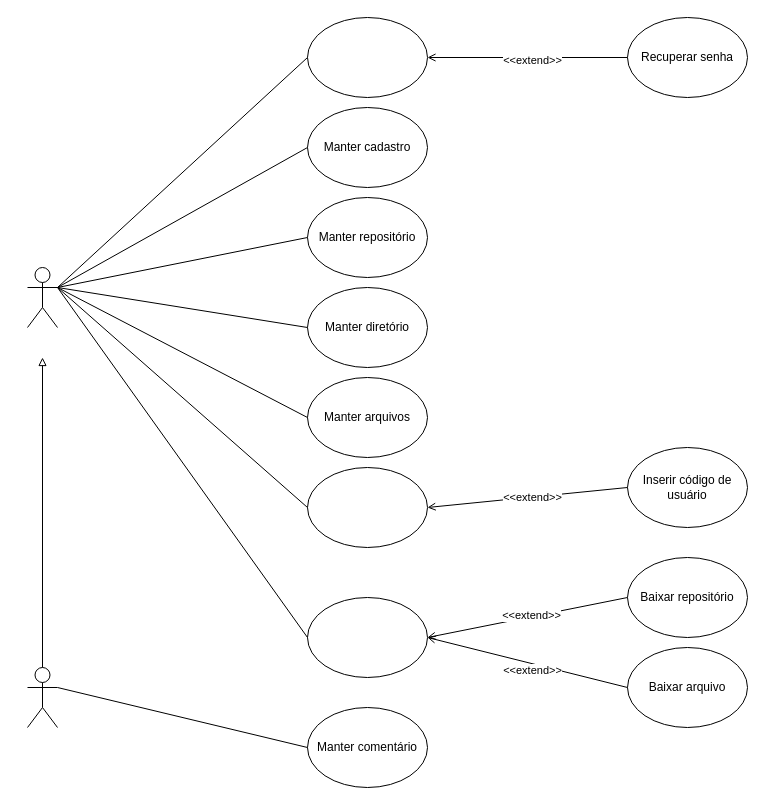
Image size: 765x805. Some labels were removed from this diagram. The centre of each missing label's shape, as x and y in pixels:
Aluno: pixel 42 297
Fazer download: pixel 367 637
Manter permissões: pixel 367 507
Professor: pixel 42 697
Realizar login: pixel 367 57
